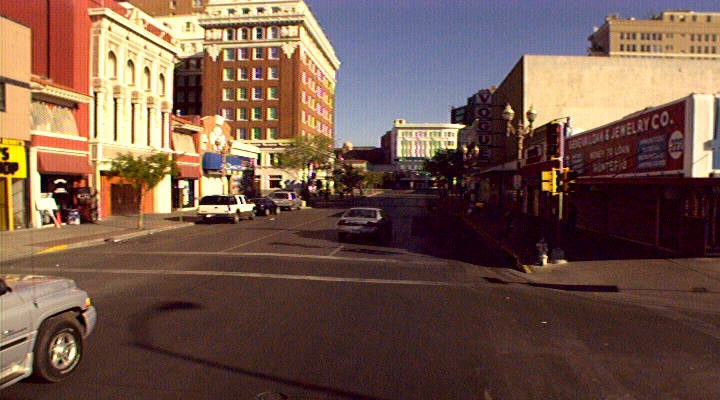Ramp: (519, 255, 720, 296), (1, 239, 49, 268)
